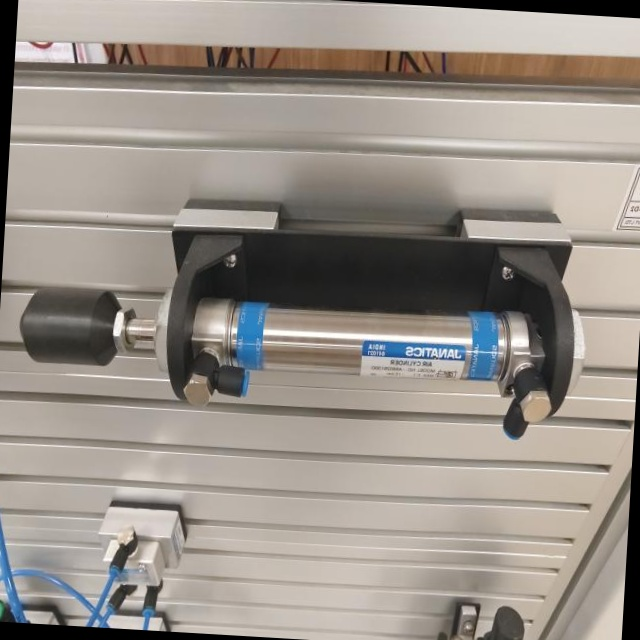double acting pneumatic cylinder: (12, 168, 594, 451)
